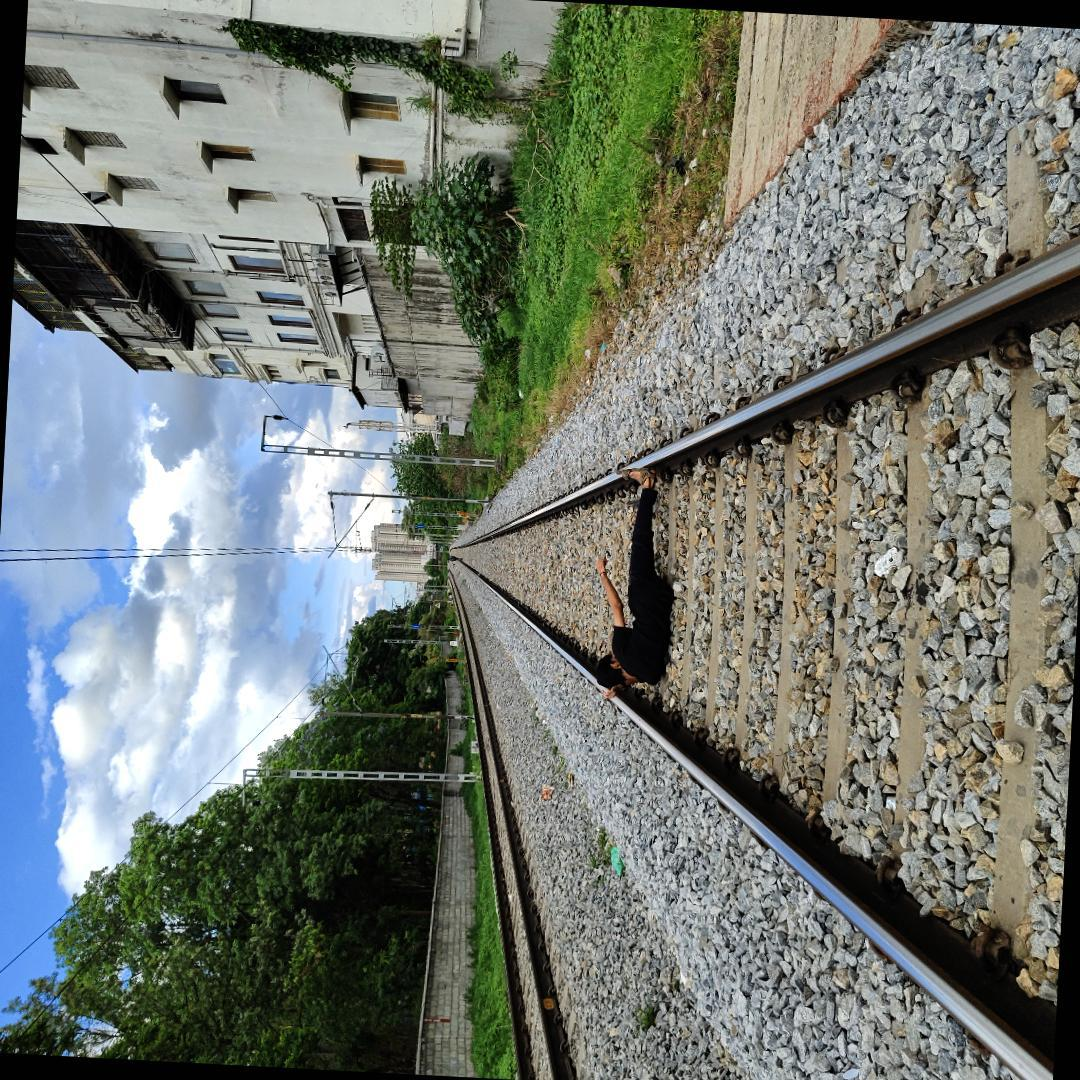sleeping: (589, 450, 688, 706)
